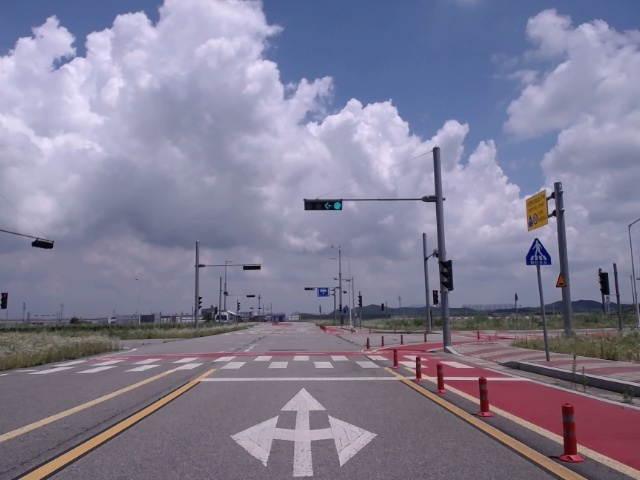all_green_4: (303, 198, 344, 209)
